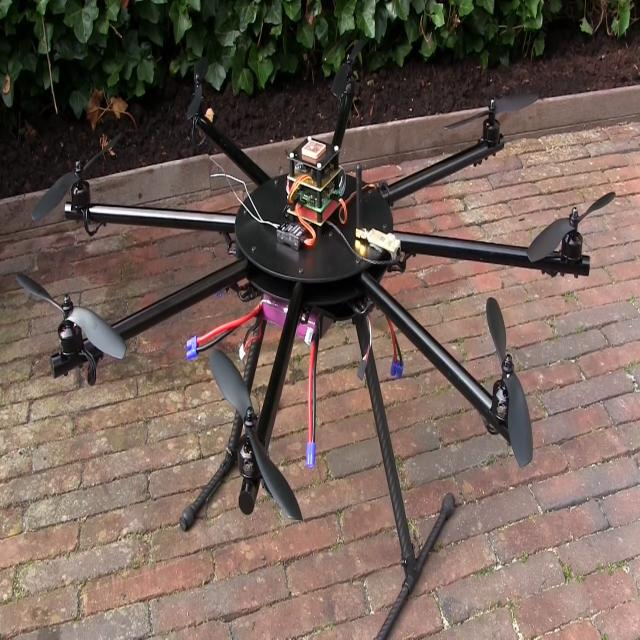drone: (27, 45, 618, 640)
